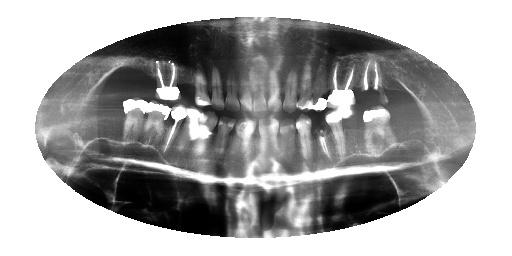i10decay: (214, 111, 235, 156)
i11healthy: (192, 108, 218, 153)
i12healthy: (178, 103, 200, 158)
i13healthy: (159, 103, 186, 157)
i14healthy: (143, 97, 171, 153)
i15healthy: (121, 95, 149, 152)
i2healthy: (362, 104, 397, 151)
i3loss: (341, 111, 364, 150)
i4healthy: (325, 109, 354, 160)
i5chipped: (310, 114, 335, 161)
i6healthy: (294, 114, 318, 163)
i7decay: (275, 117, 300, 165)
i8decay: (257, 113, 280, 160)
i9healthy: (233, 114, 257, 172)
u10decay: (221, 61, 243, 115)
u11decay: (206, 61, 228, 114)
u12healthy: (193, 63, 213, 110)
u13loss: (175, 61, 196, 107)
u14healthy: (151, 57, 184, 106)
u15loss: (134, 57, 155, 100)
u2chipped: (358, 52, 394, 109)
u3healthy: (326, 54, 362, 110)
u4healthy: (310, 53, 330, 112)
u5healthy: (297, 54, 317, 114)
u6decay: (281, 56, 300, 115)
u7decay: (265, 63, 284, 115)
u8healthy: (249, 59, 270, 116)
u9decay: (236, 69, 254, 107)
